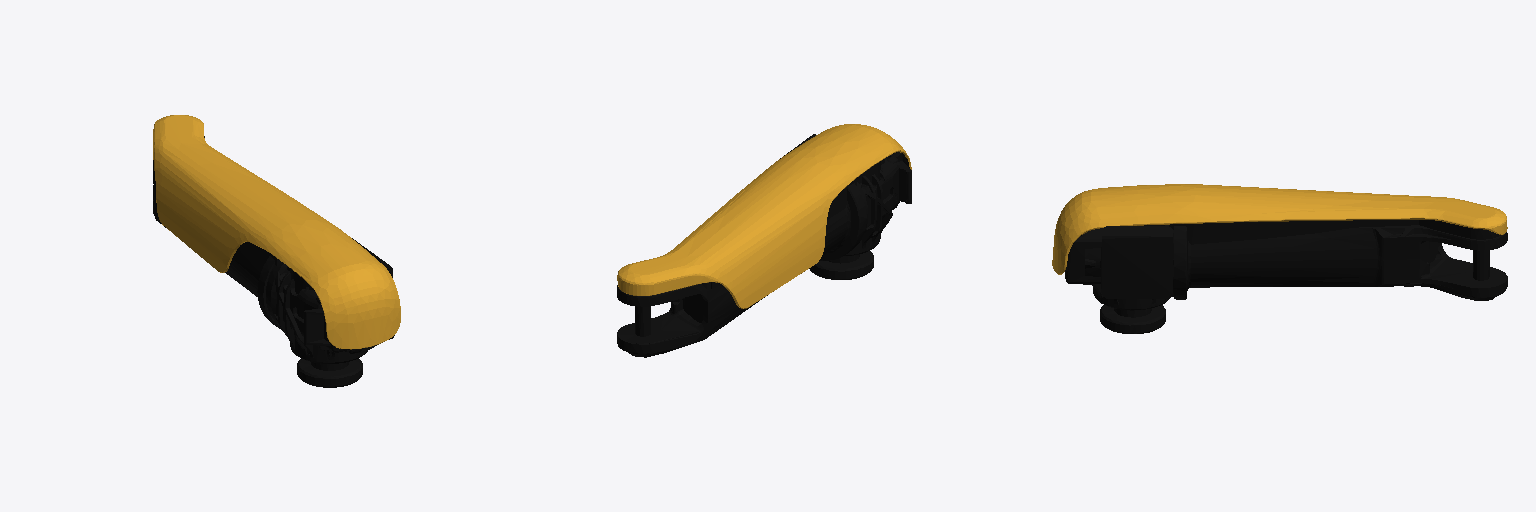
Rendered from rear_left_upper_leg.obj.
3 renders of one model, left to right at view 1: azimuth 30°, elevation 25°; view 2: azimuth 150°, elevation 25°; view 3: azimuth 270°, elevation 25°, orthographic.
Visible parts, largest first — view 1: _2-042137-001-A00_TOP_LEVEL_DEFEATURED_-_NOT_FOR_PRODUCTION_012; view 2: _2-042137-001-A00_TOP_LEVEL_DEFEATURED_-_NOT_FOR_PRODUCTION_012; view 3: _2-042137-001-A00_TOP_LEVEL_DEFEATURED_-_NOT_FOR_PRODUCTION_012.
Boxes of the visible parts, x1=… form: _2-042137-001-A00_TOP_LEVEL_DEFEATURED_-_NOT_FOR_PRODUCTION_012: x1=153, y1=115, x2=400, y2=387; _2-042137-001-A00_TOP_LEVEL_DEFEATURED_-_NOT_FOR_PRODUCTION_012: x1=617, y1=124, x2=911, y2=357; _2-042137-001-A00_TOP_LEVEL_DEFEATURED_-_NOT_FOR_PRODUCTION_012: x1=1052, y1=184, x2=1507, y2=333.
Bounding box in the file's own units: 0.1013 × 0.1322 × 0.4185.